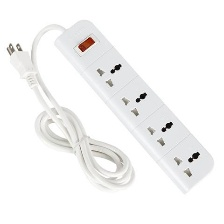three_eye_plug: (51, 15, 216, 198)
